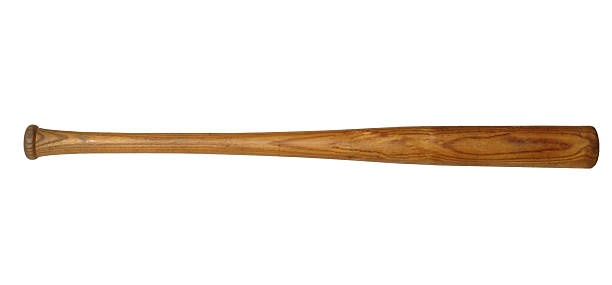bita: (25, 125, 603, 167)
